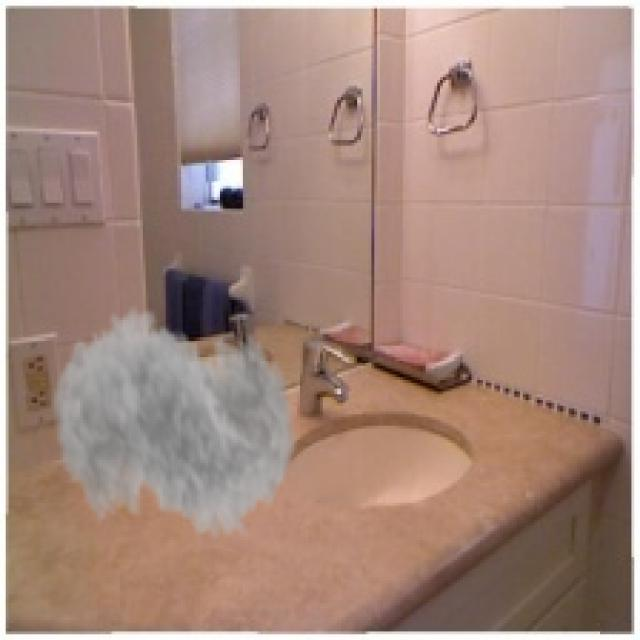smoke: (52, 286, 297, 568)
